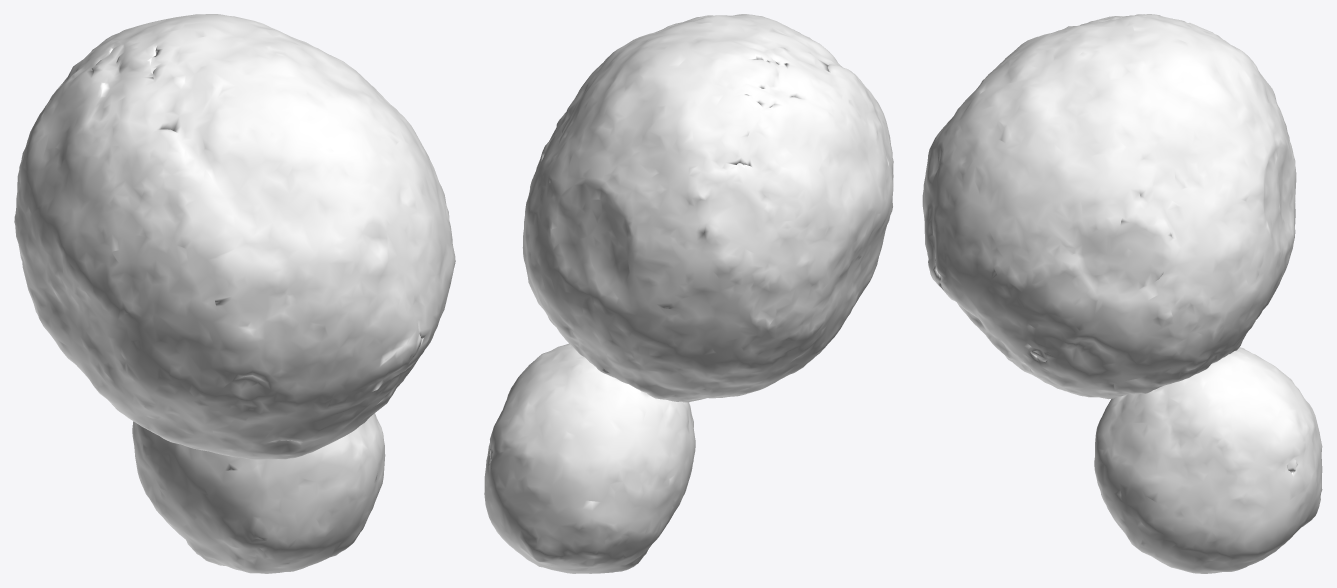
Rendered from UltimaThule.fbx.
The picture shows the model from 3 angles, left to right: view 1: azimuth 30°, elevation 25°; view 2: azimuth 150°, elevation 25°; view 3: azimuth 270°, elevation 25°; orthographic projection. The views are drawn at different scales.
Visible parts, largest first — view 1: node_id4; view 2: node_id4; view 3: node_id4.
Boxes of the visible parts, box(x1,y1,x2,y2) form: node_id4: box(14, 14, 455, 573); node_id4: box(484, 14, 893, 573); node_id4: box(922, 14, 1322, 573).
Bounding box in the file's own units: 0.3095 × 0.4847 × 0.3576.
Materials: 1 (1 with a texture image).
